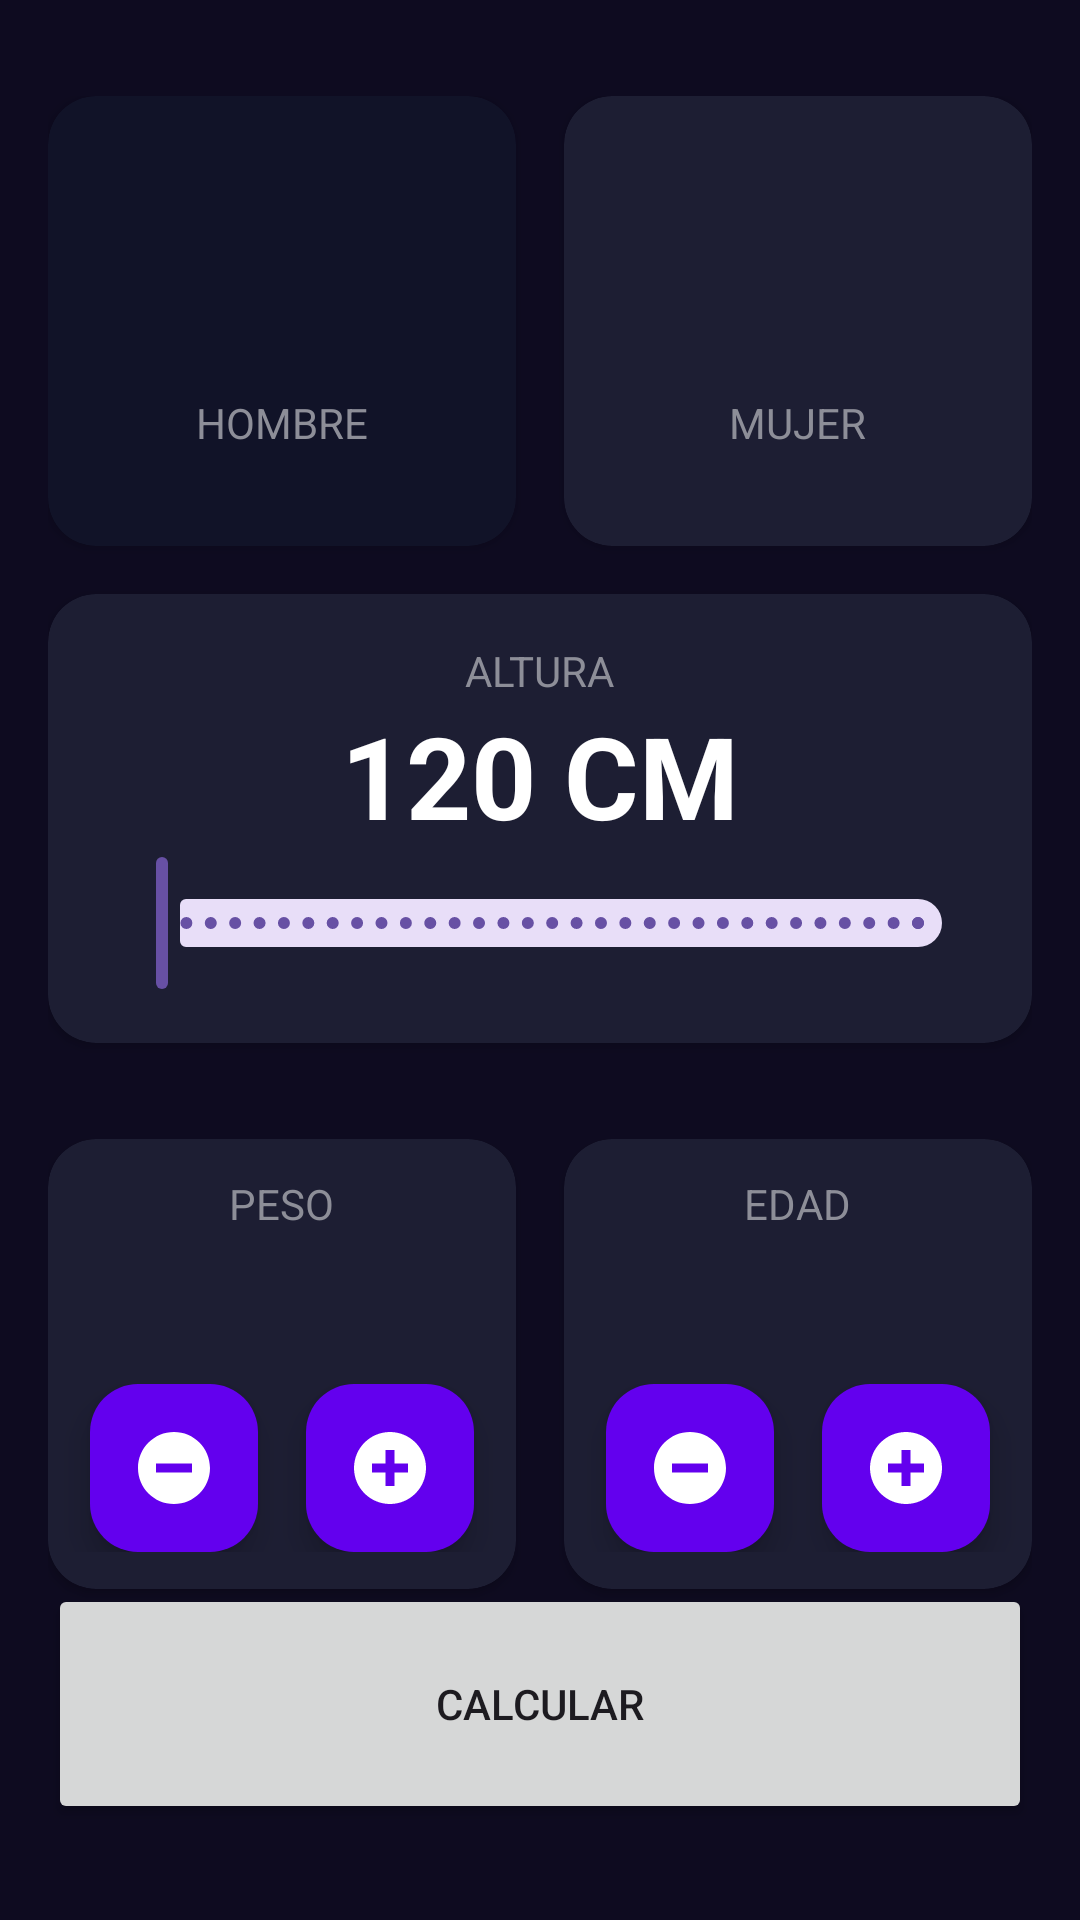

Locate icon controls on the screen. Image size 1080w x 1920h, boxes as (x1, y1, x2, y2).
minus: (90, 1384, 258, 1552), (606, 1384, 774, 1552)
plus: (306, 1384, 474, 1552), (822, 1384, 990, 1552)
